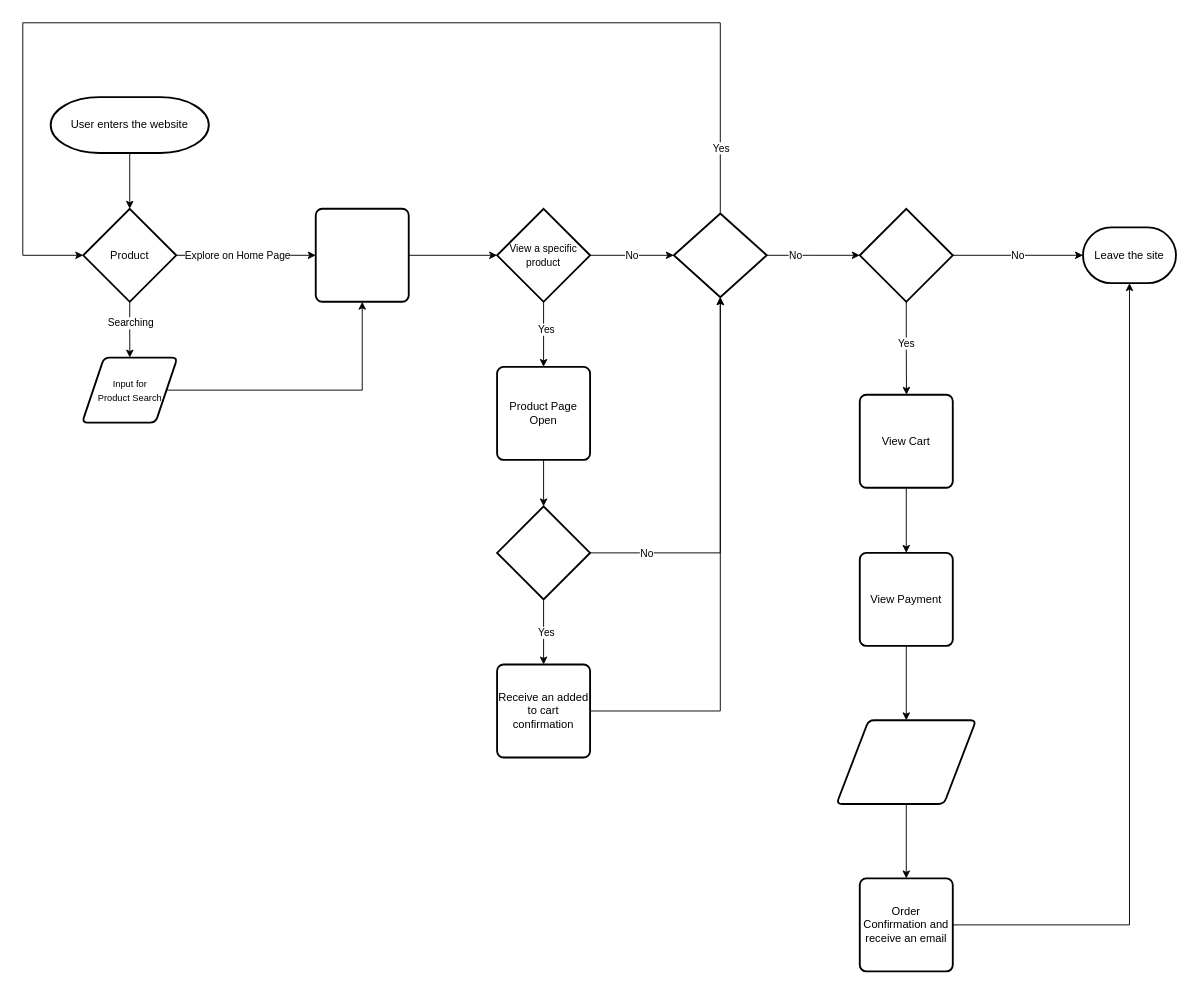
The diagram is 1193 pixels wide and 989 high, and some of its shapes have lost their labels. The shapes that lost their labels are listed below. From the top down, each one's centre as x and y in pixels, then its label:
At (361,254): "User looking over the products".
At (719,255): "Continue Shoppong".
At (905,254): "Checkout".
At (543,552): "Add the Product to the cart".
At (905,761): "Input their payment information".
